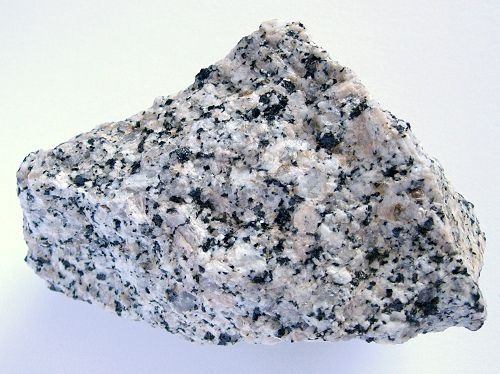obstacle: (17, 22, 484, 344)
